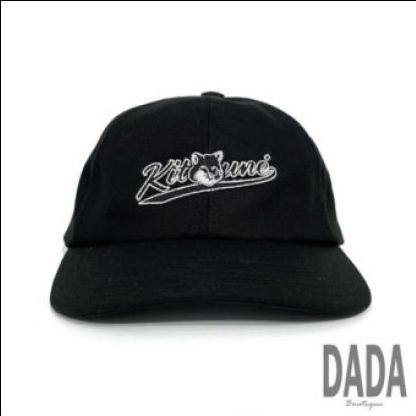cap: (37, 81, 378, 333)
